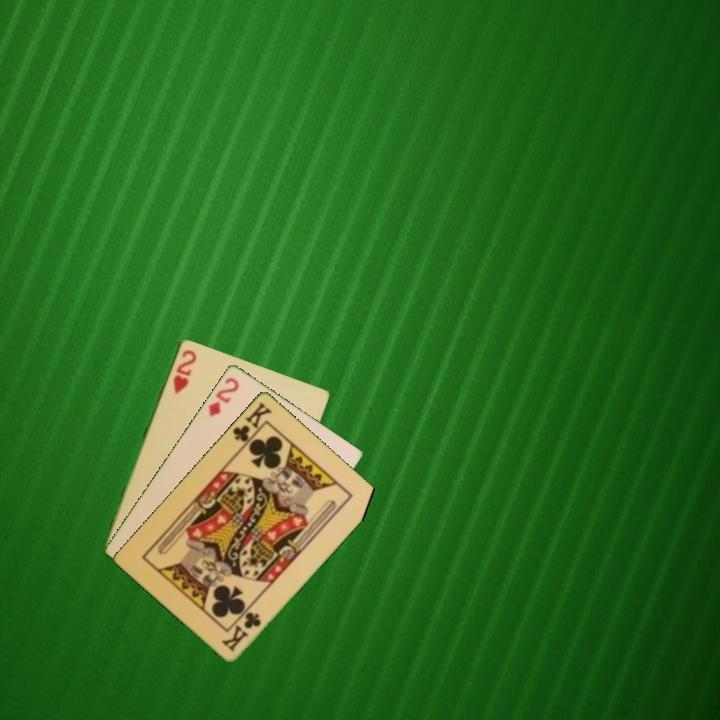2d: (205, 373, 242, 419)
2h: (169, 346, 199, 397)
Kc: (229, 398, 275, 451), (219, 608, 264, 654)
